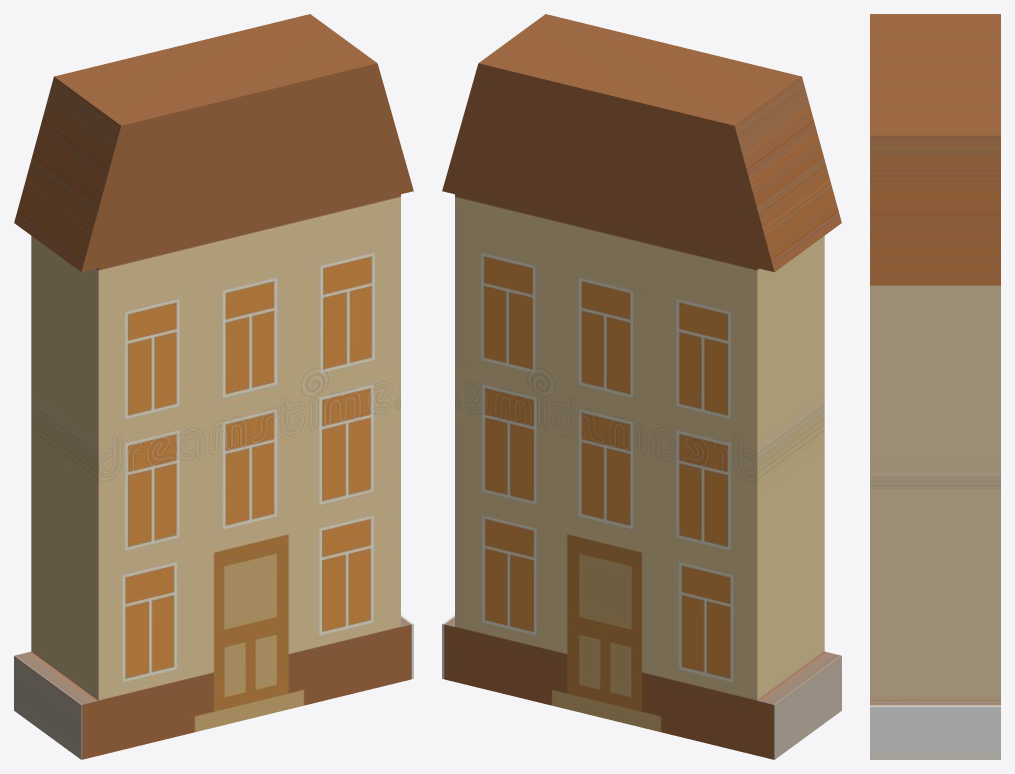
3 renders of one model, left to right at view 1: azimuth 30°, elevation 25°; view 2: azimuth 150°, elevation 25°; view 3: azimuth 270°, elevation 25°, orthographic. The views are drawn at different scales.
Visible parts, largest first — view 1: city-town-house-vector-facade-face-side-street-view-modern-w; view 2: city-town-house-vector-facade-face-side-street-view-modern-w; view 3: city-town-house-vector-facade-face-side-street-view-modern-w.
Part boxes in pixels (x1,y1,x2,y2): city-town-house-vector-facade-face-side-street-view-modern-w: (14, 14, 413, 759); city-town-house-vector-facade-face-side-street-view-modern-w: (442, 14, 841, 759); city-town-house-vector-facade-face-side-street-view-modern-w: (870, 14, 1000, 759).
Size of the model in its own units: 41.11 by 73.78 by 14.42.
